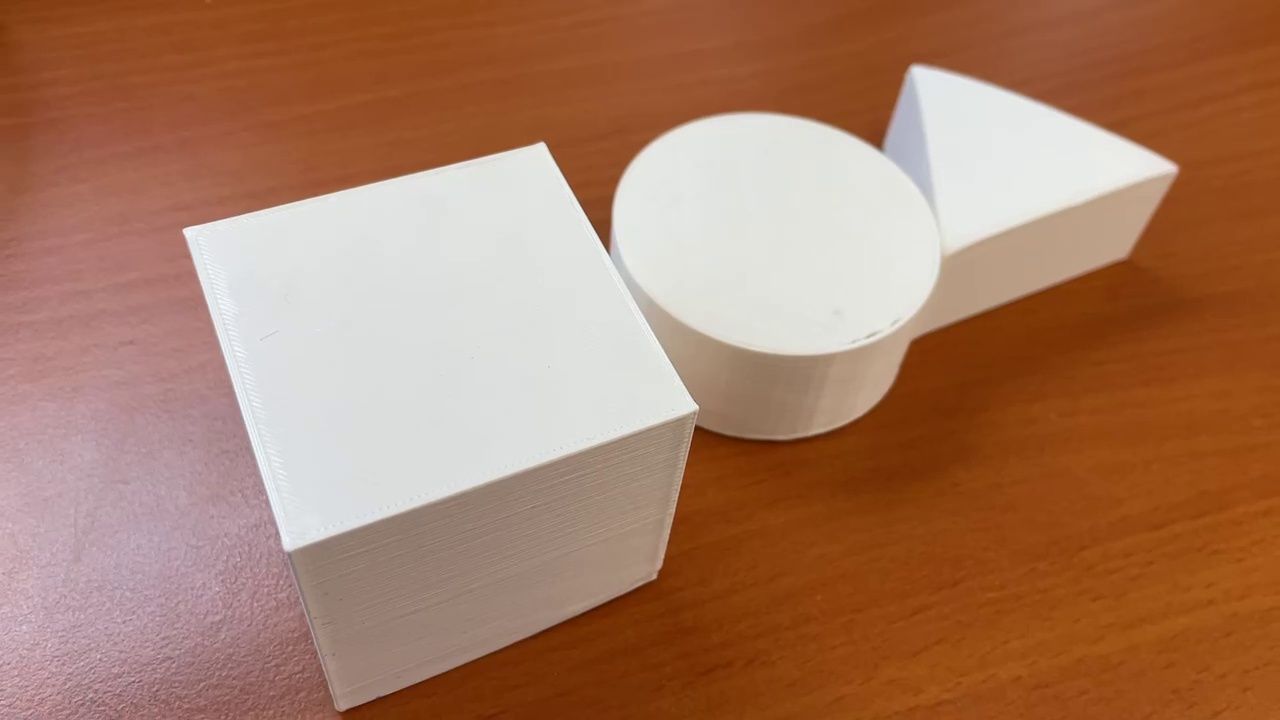Cube: (180, 142, 701, 714)
Cylinder_short: (606, 109, 941, 444)
Triangle_short: (875, 63, 1181, 342)
